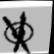not correct: (0, 9, 37, 54)
